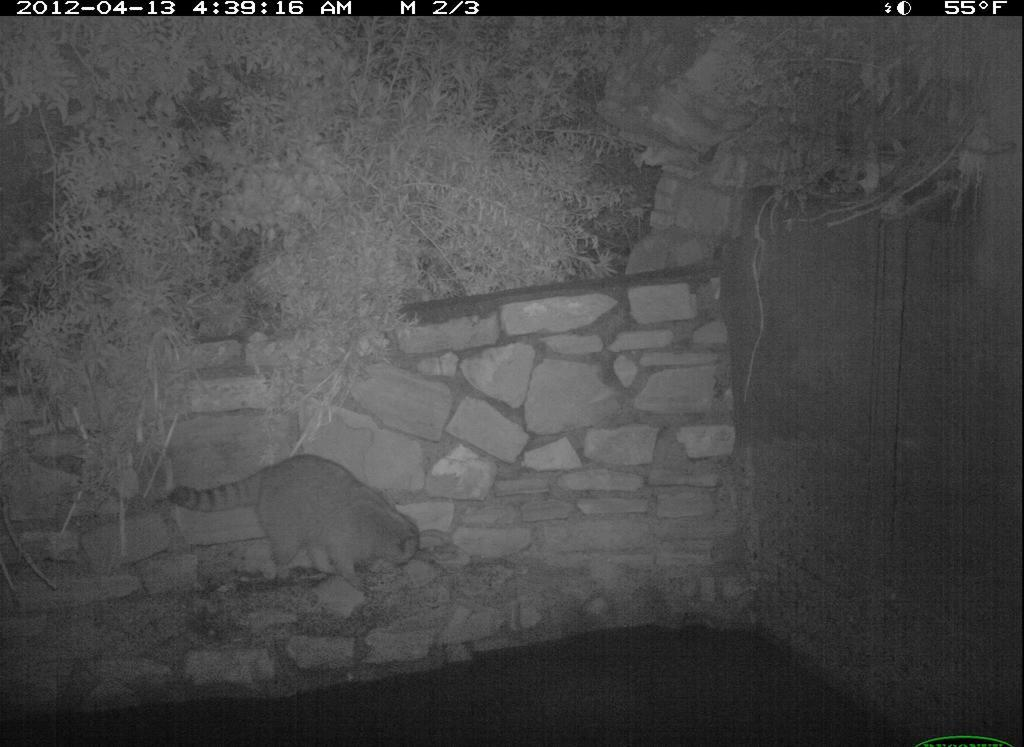raccoon: (159, 449, 424, 588)
